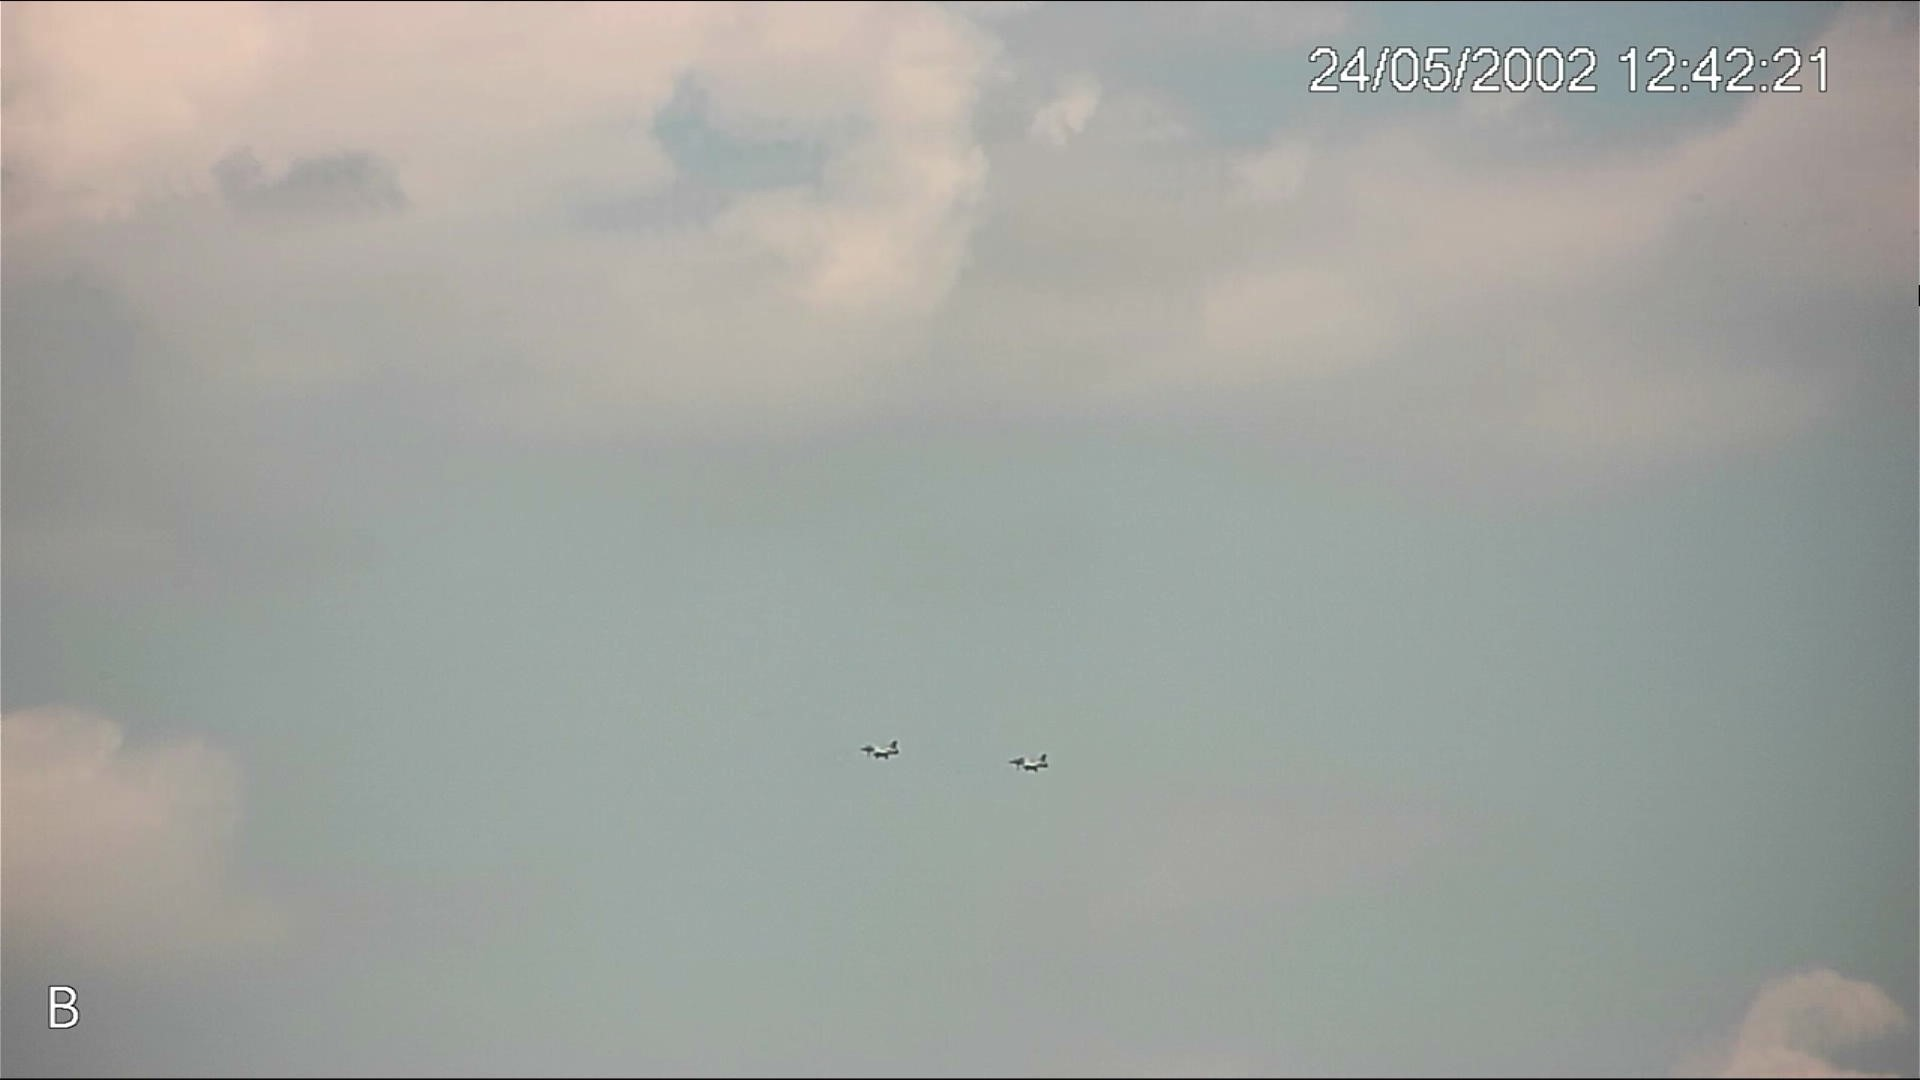SU_30: (1007, 752, 1050, 774), (858, 738, 901, 760)
